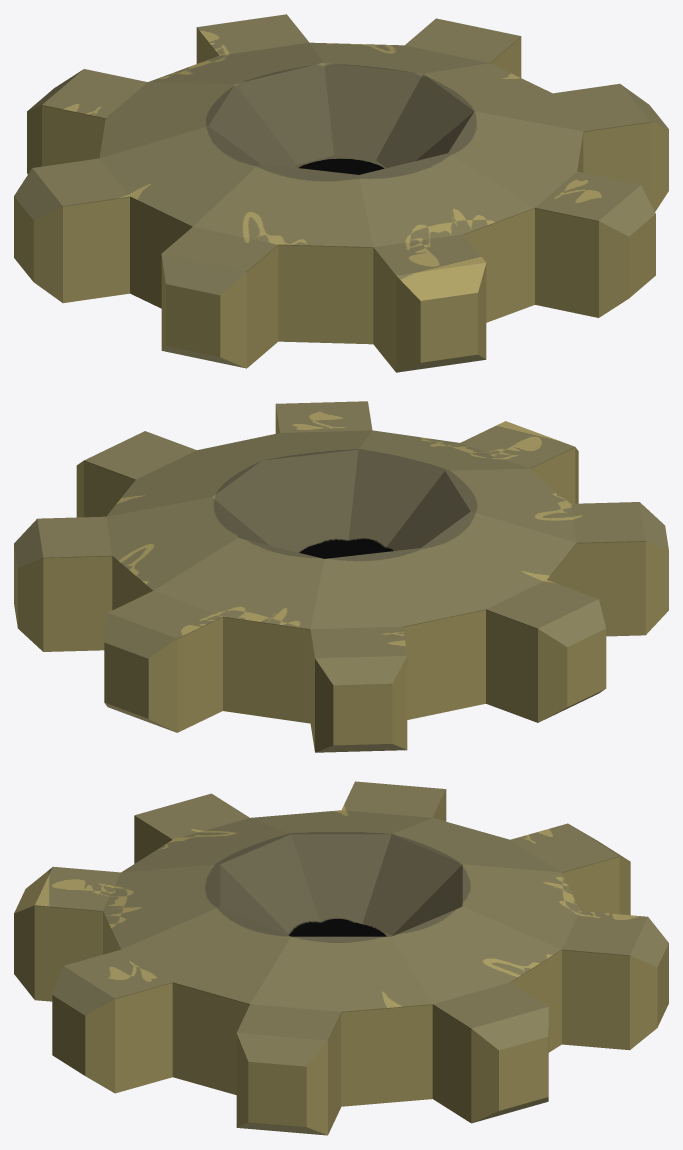
Rendered from Chatarra.fbx.
3 views of the same model, one above another, from view 1: azimuth 30°, elevation 25°; view 2: azimuth 150°, elevation 25°; view 3: azimuth 270°, elevation 25° (orthographic). The views are drawn at different scales.
Parts seen in each view (by area): view 1: Cylinder; view 2: Cylinder; view 3: Cylinder.
Boxes of the visible parts, x1,y1,x2,y2 form: Cylinder: (14,14,668,372); Cylinder: (14,401,668,752); Cylinder: (14,781,668,1135).
Size of the model in its own units: 275 by 55.74 by 275.
1 material, 1 textured.
